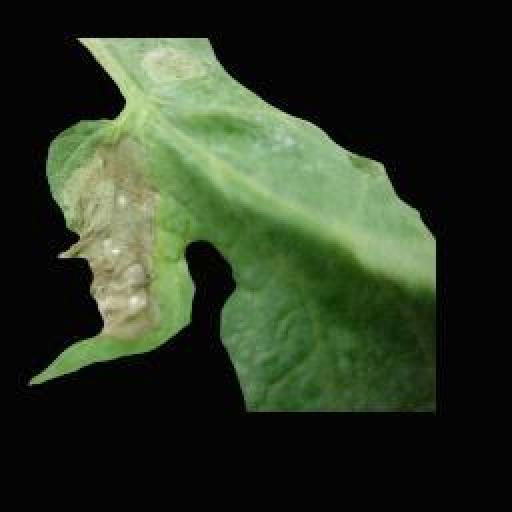disease_tomato: (31, 37, 437, 415)
